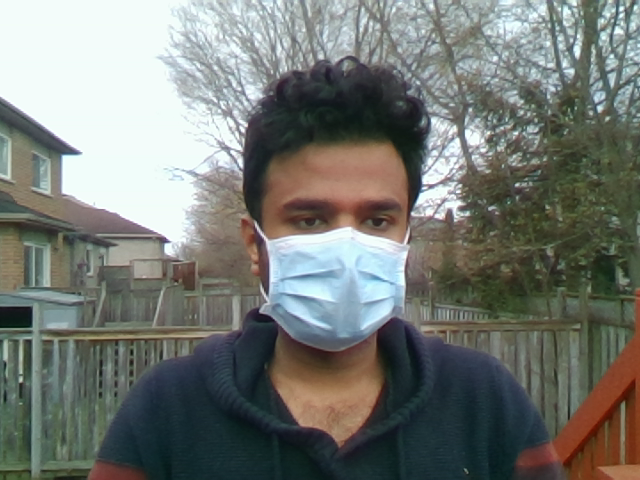Mask: (240, 217, 426, 359)
